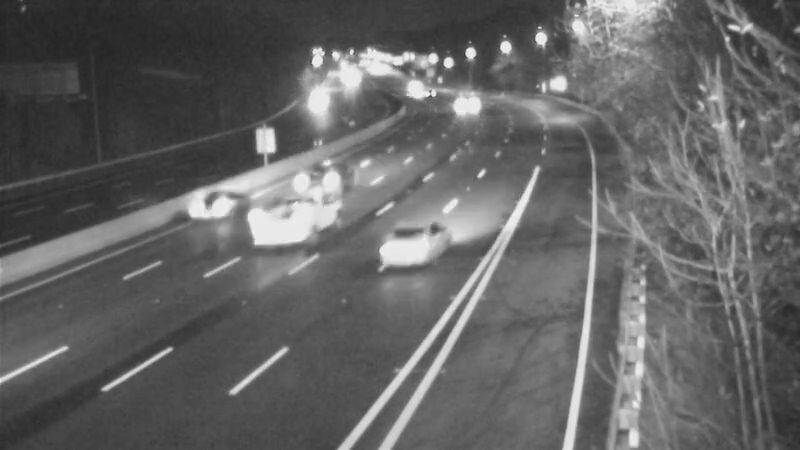vehicle: (290, 133, 370, 213), (253, 171, 333, 251), (182, 162, 262, 242), (368, 216, 448, 296), (408, 65, 458, 115), (440, 84, 490, 134), (297, 67, 347, 117)
